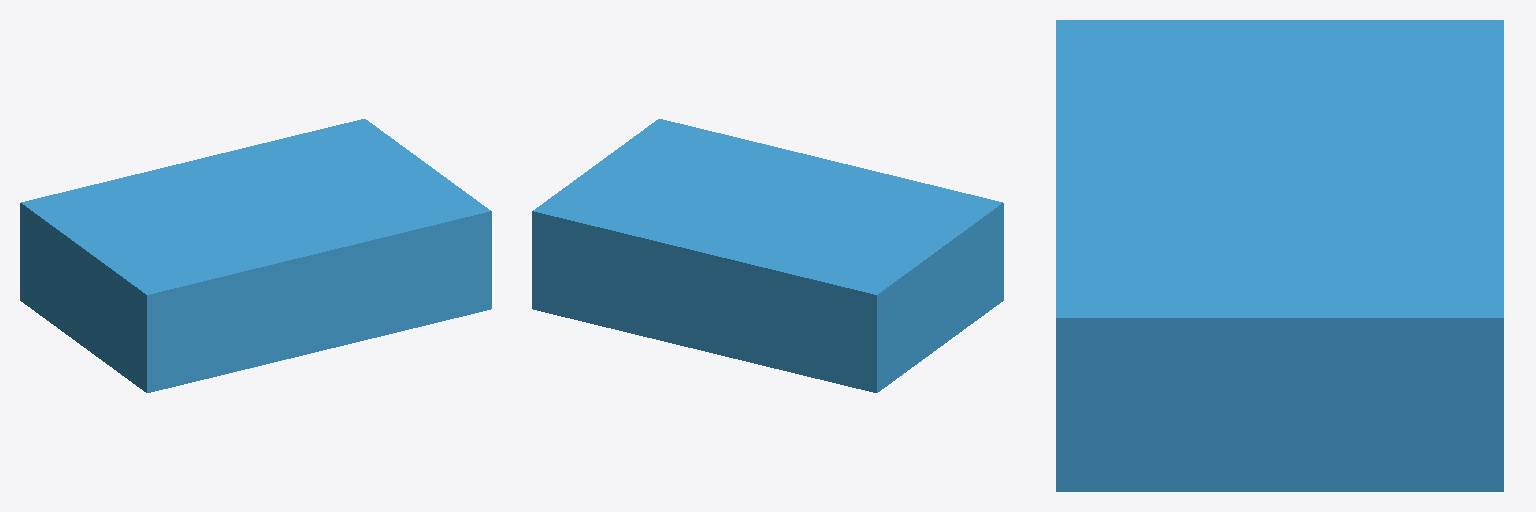
robot.urdf — tug-200:
<?xml version="1.0"?>
<robot name="tug-200">
  <link name="base_footprint"/>
  <link name="base_link">
    <inertial><mass value="210.0"/><origin xyz="0 0 0.18"/>
      <inertia ixx="9.1" ixy="0" ixz="0" iyy="14.6" iyz="0" izz="19.8"/></inertial>
    <visual><geometry><box size="1.10 0.70 0.30"/></geometry></visual>
  </link>
  <joint name="base_joint" type="fixed">
    <parent link="base_footprint"/><child link="base_link"/>
    <origin xyz="0 0 0.12" rpy="0 0 0"/>
  </joint>
  <link name="left_wheel"><visual><geometry>
    <cylinder radius="0.12" length="0.06"/></geometry></visual></link>
  <joint name="left_wheel_joint" type="continuous">
    <parent link="base_link"/><child link="left_wheel"/>
    <origin xyz="0 0.31 -0.0" rpy="-1.5708 0 0"/><axis xyz="0 0 1"/>
  </joint>
  <link name="right_wheel"><visual><geometry>
    <cylinder radius="0.12" length="0.06"/></geometry></visual></link>
  <joint name="right_wheel_joint" type="continuous">
    <parent link="base_link"/><child link="right_wheel"/>
    <origin xyz="0 -0.31 -0.0" rpy="-1.5708 0 0"/><axis xyz="0 0 1"/>
  </joint>
  <link name="lidar_front"/>
  <joint name="lidar_front_joint" type="fixed">
    <parent link="base_link"/><child link="lidar_front"/>
    <origin xyz="0.52 0 0.10" rpy="0 0 0"/>
  </joint>
  <link name="base_imu"/>
  <joint name="base_imu_joint" type="fixed">
    <parent link="base_link"/><child link="base_imu"/>
    <origin xyz="0.0 0 0.05" rpy="0 0 0"/>
  </joint>
</robot>

--- Render facts (derived) ---
The picture shows the robot from 3 angles, left to right: view 1: azimuth 30°, elevation 25°; view 2: azimuth 150°, elevation 25°; view 3: azimuth 270°, elevation 25°; orthographic projection.
Model tug-200 with 6 links and 5 joints (2 continuous, 3 fixed), rooted at base_footprint, posed every joint at zero.
Links seen in each view (by area): view 1: base_link; view 2: base_link; view 3: base_link.
Boxes of the visible links, bbox=[...] form: base_link: bbox=[20, 119, 491, 392]; base_link: bbox=[532, 119, 1003, 392]; base_link: bbox=[1056, 20, 1503, 491].
Size in the robot's own frame: 1.1 by 0.7 by 0.3 metres.
Geometry: primitives only (box / cylinder / sphere), no mesh files.
